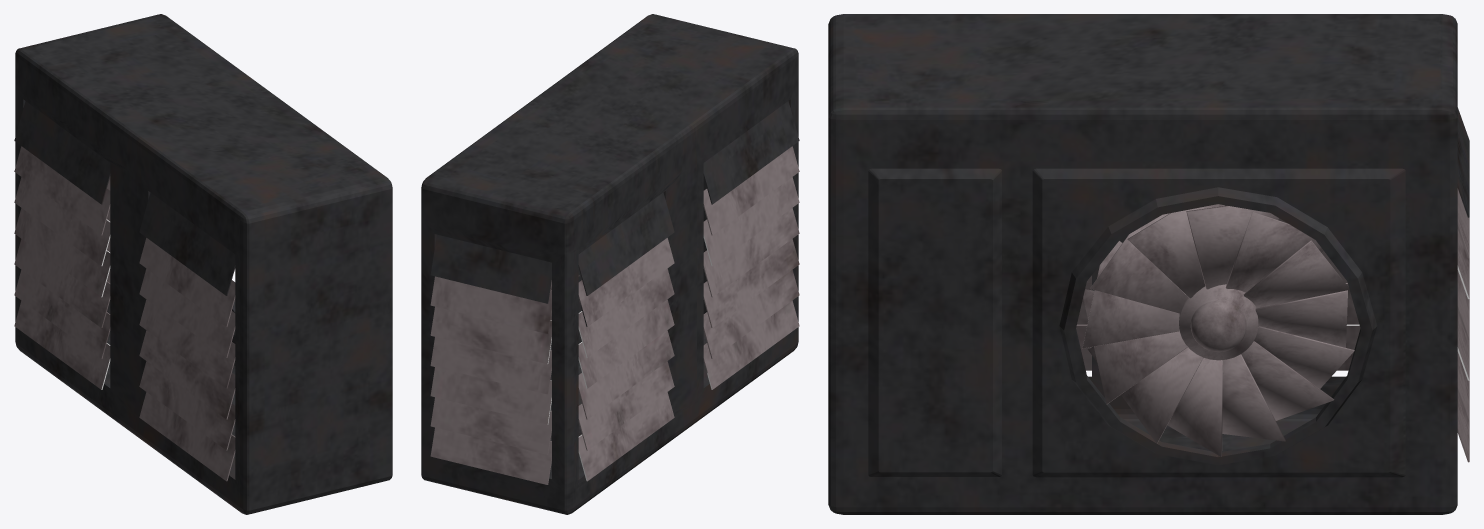
Rendered from ClimaViejo.fbx.
3 renders of one model, left to right at view 1: azimuth 30°, elevation 25°; view 2: azimuth 150°, elevation 25°; view 3: azimuth 270°, elevation 25°, orthographic. The views are drawn at different scales.
Parts seen in each view (by area): view 1: AireLavadoLpNew.003; view 2: AireLavadoLpNew.003; view 3: AireLavadoLpNew.003.
Boxes of the visible parts, left/top/right/bottom form: AireLavadoLpNew.003: left=14, top=14, right=392, bottom=514; AireLavadoLpNew.003: left=421, top=14, right=799, bottom=514; AireLavadoLpNew.003: left=828, top=14, right=1469, bottom=514.
Size of the model in its own units: 33.1 by 55 by 78.44.
Materials: 1 (1 with a texture image).
